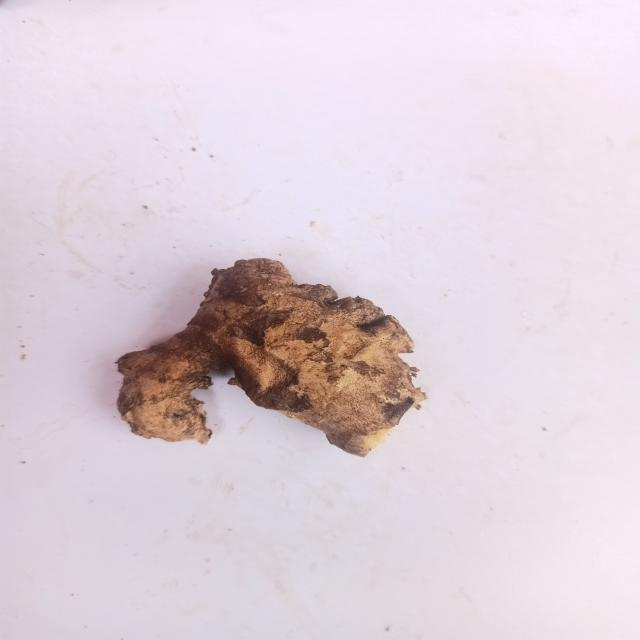Ginger: (99, 247, 454, 474)
